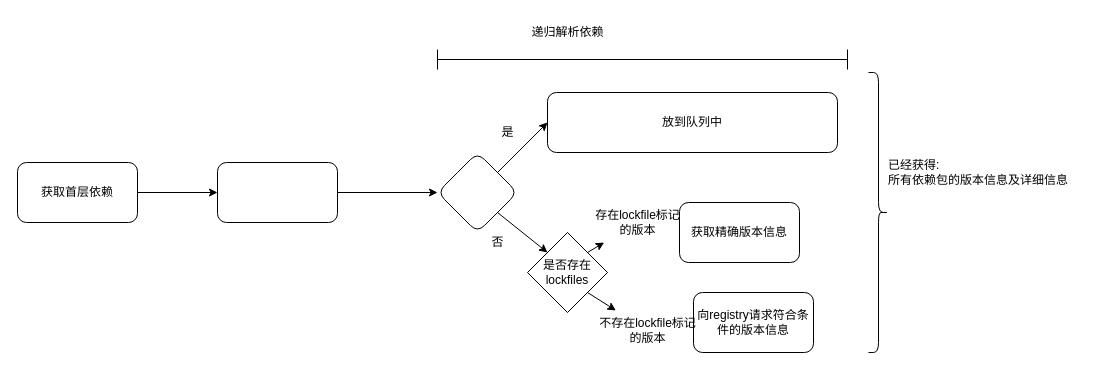
This 1104x370 diagram has some shape labels left out. Here are the shapes that lost their labels. From the top down, the box of each, then its label:
(216, 162, 338, 222): 解析依赖
(436, 152, 518, 232): 是否已解析
